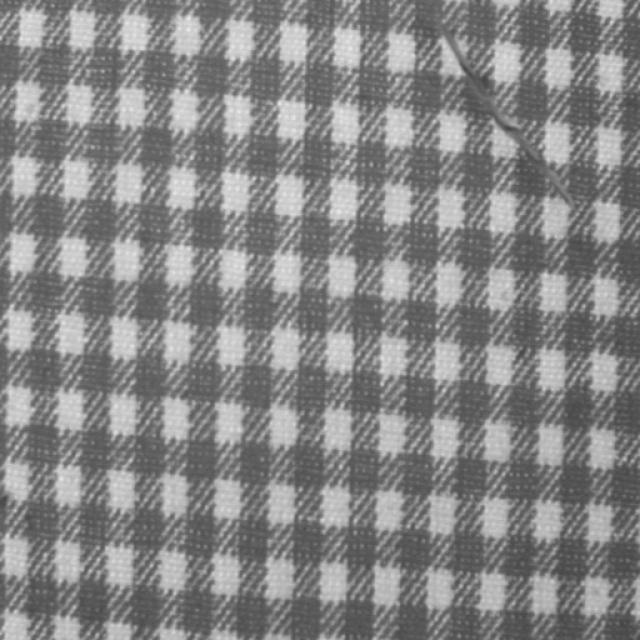Foreign-Body-Defect: (434, 21, 576, 211)
